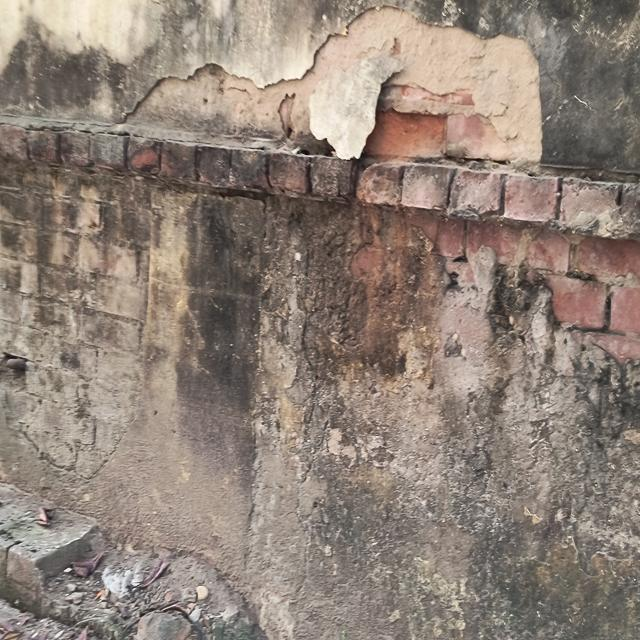peeling: (119, 6, 545, 171)
spalling: (0, 113, 640, 483), (363, 82, 509, 164)
stain_mould: (0, 113, 640, 483), (141, 187, 640, 640), (0, 0, 640, 173)
